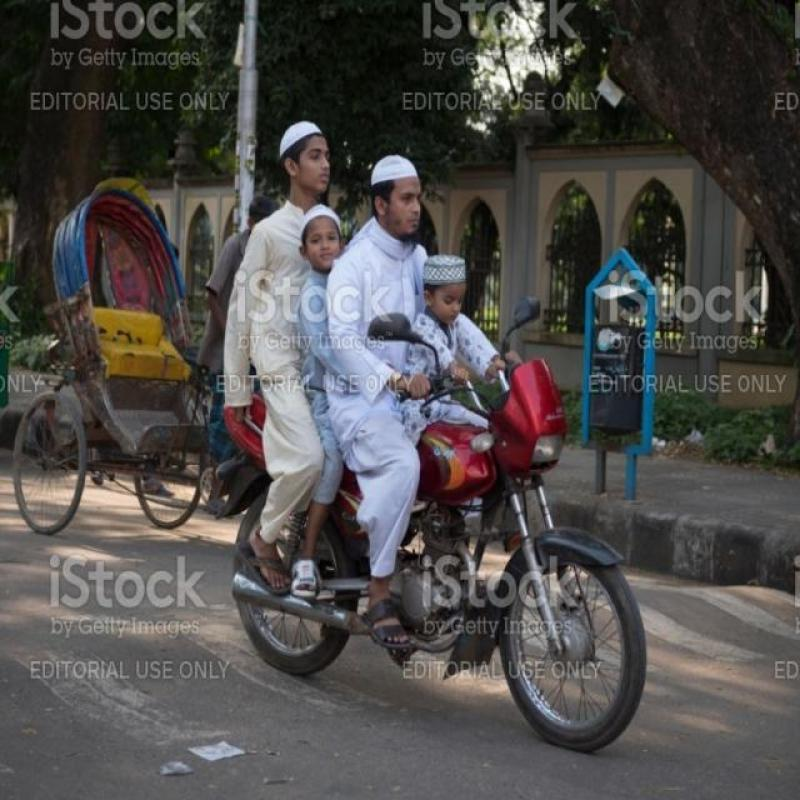nohelmet: (366, 150, 434, 244), (267, 120, 345, 199)
